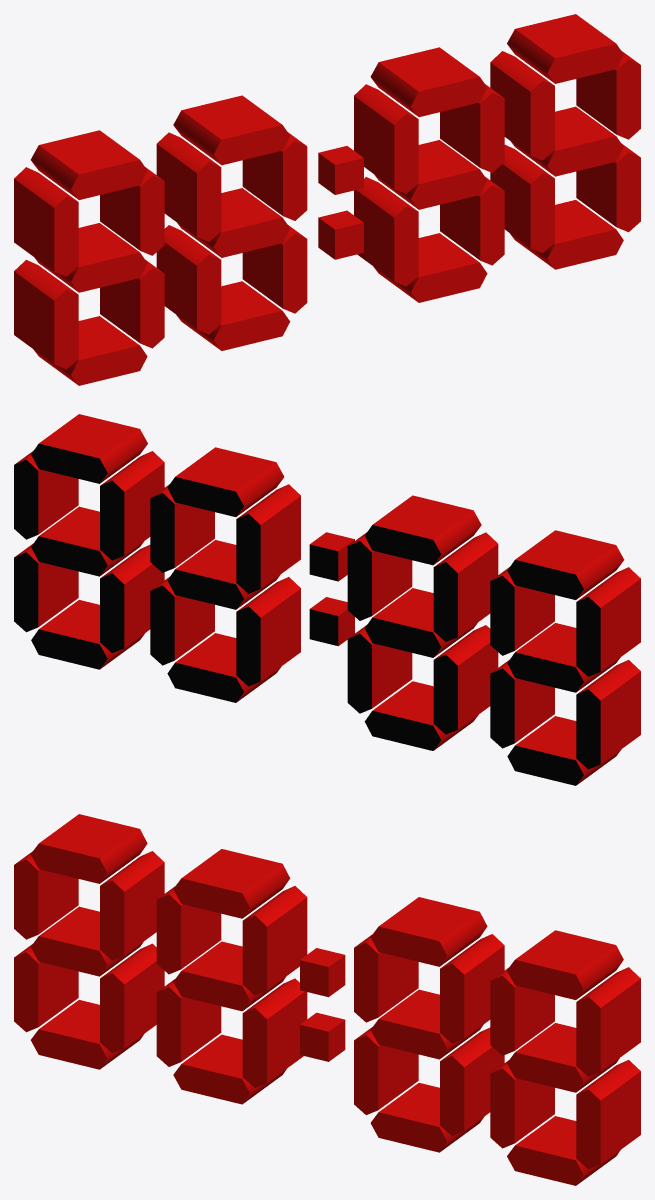
Rendered from numbers - Copy.fbx.
3 views of the same model, one above another, from view 1: azimuth 30°, elevation 25°; view 2: azimuth 150°, elevation 25°; view 3: azimuth 330°, elevation 25° (orthographic).
Visible parts, largest first — view 1: group6; view 2: group6; view 3: group6.
Boxes of the visible parts, x1,y1,x2,y2 form: group6: (14,14,640,385); group6: (14,414,640,785); group6: (14,814,640,1185).
Size of the model in its own units: 3.01 by 1.04 by 0.3589.
